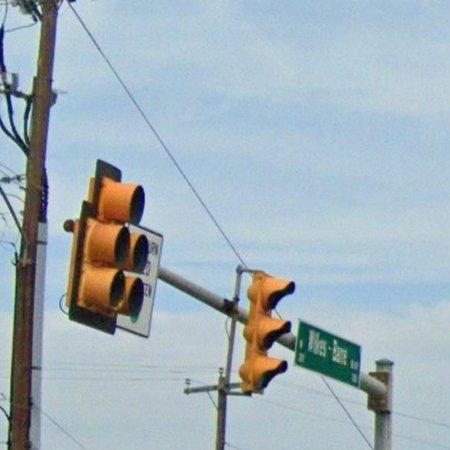traffic lights: (66, 159, 152, 339), (238, 264, 294, 400)
